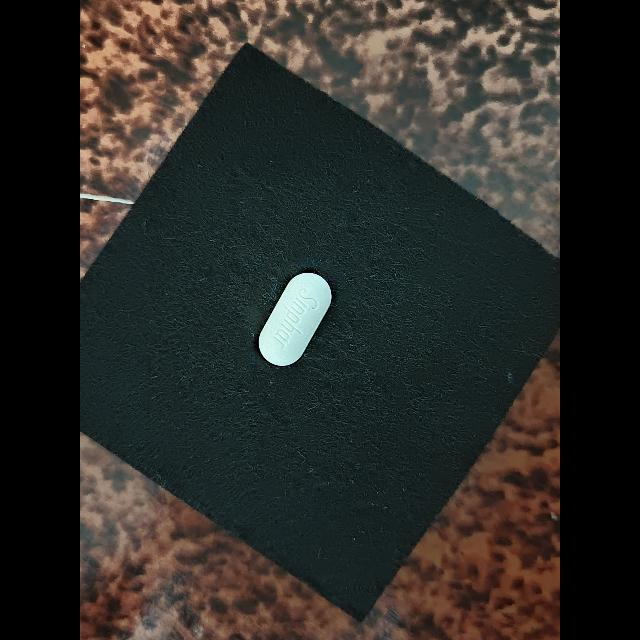Intact Pill: (258, 273, 332, 366)
